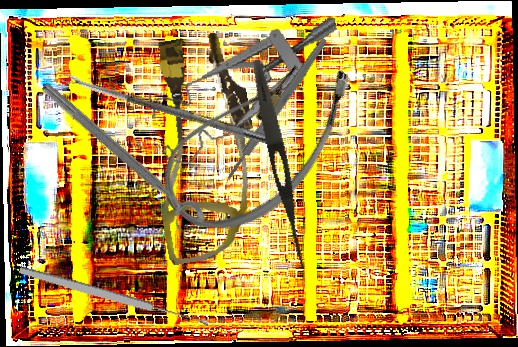Cannula: (143, 19, 373, 261), (132, 29, 274, 266)
Dressing Forceps: (246, 58, 314, 271)
Fixation Ring: (29, 77, 209, 240)
Scalpel Handle: (223, 36, 330, 182)
Speculum: (139, 14, 357, 170)
Surgical Spoon: (61, 71, 278, 147), (18, 264, 210, 330)
